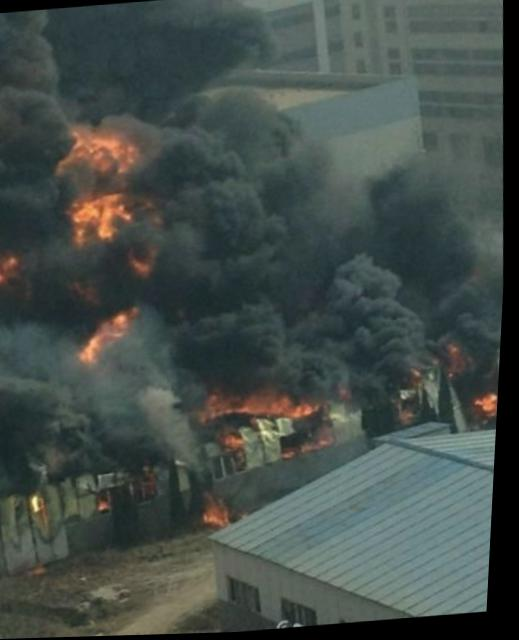fire: (62, 130, 142, 178), (72, 190, 139, 240), (207, 393, 319, 422), (97, 314, 132, 338), (83, 333, 110, 364), (0, 256, 29, 284), (209, 500, 235, 529), (478, 394, 501, 426), (136, 256, 163, 279), (226, 433, 252, 452), (35, 492, 53, 518), (322, 425, 339, 448), (102, 495, 120, 515)
